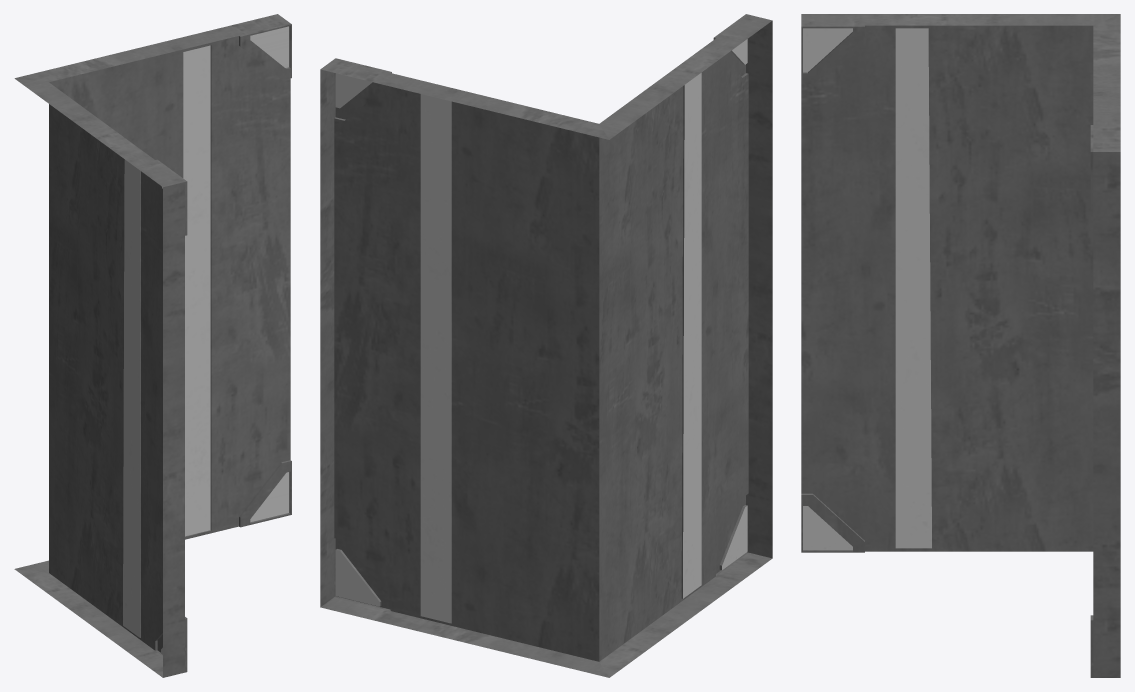
Rendered from Wall L.fbx.
3 renders of one model, left to right at view 1: azimuth 30°, elevation 25°; view 2: azimuth 150°, elevation 25°; view 3: azimuth 270°, elevation 25°, orthographic. The views are drawn at different scales.
Visible parts, largest first — view 1: Plane.005; view 2: Plane.005; view 3: Plane.005.
Part boxes in pixels (<box>): Plane.005: <box>14,14,291,677</box>; Plane.005: <box>320,14,772,677</box>; Plane.005: <box>801,14,1120,677</box>.
Bounding box in the file's own units: 112 × 200 × 110.
1 material, 1 textured.
